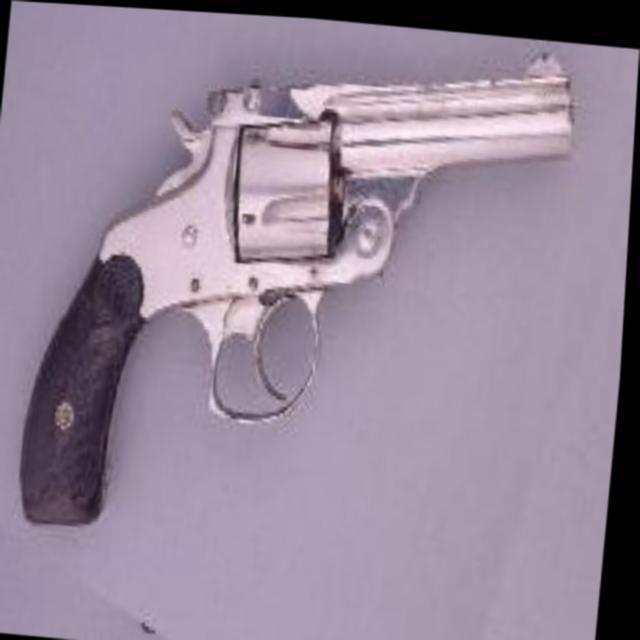weapon: (19, 2, 582, 563)
